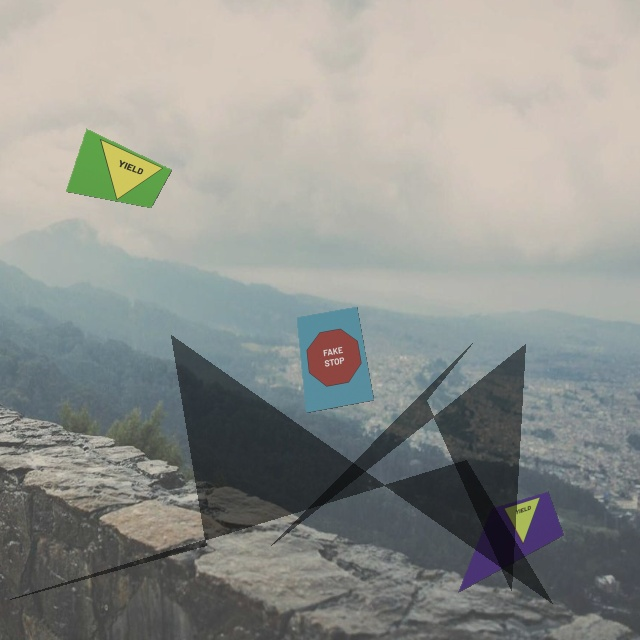FAKE_STOP: (302, 326, 364, 390)
YIELD: (81, 138, 165, 208), (484, 497, 551, 559)
